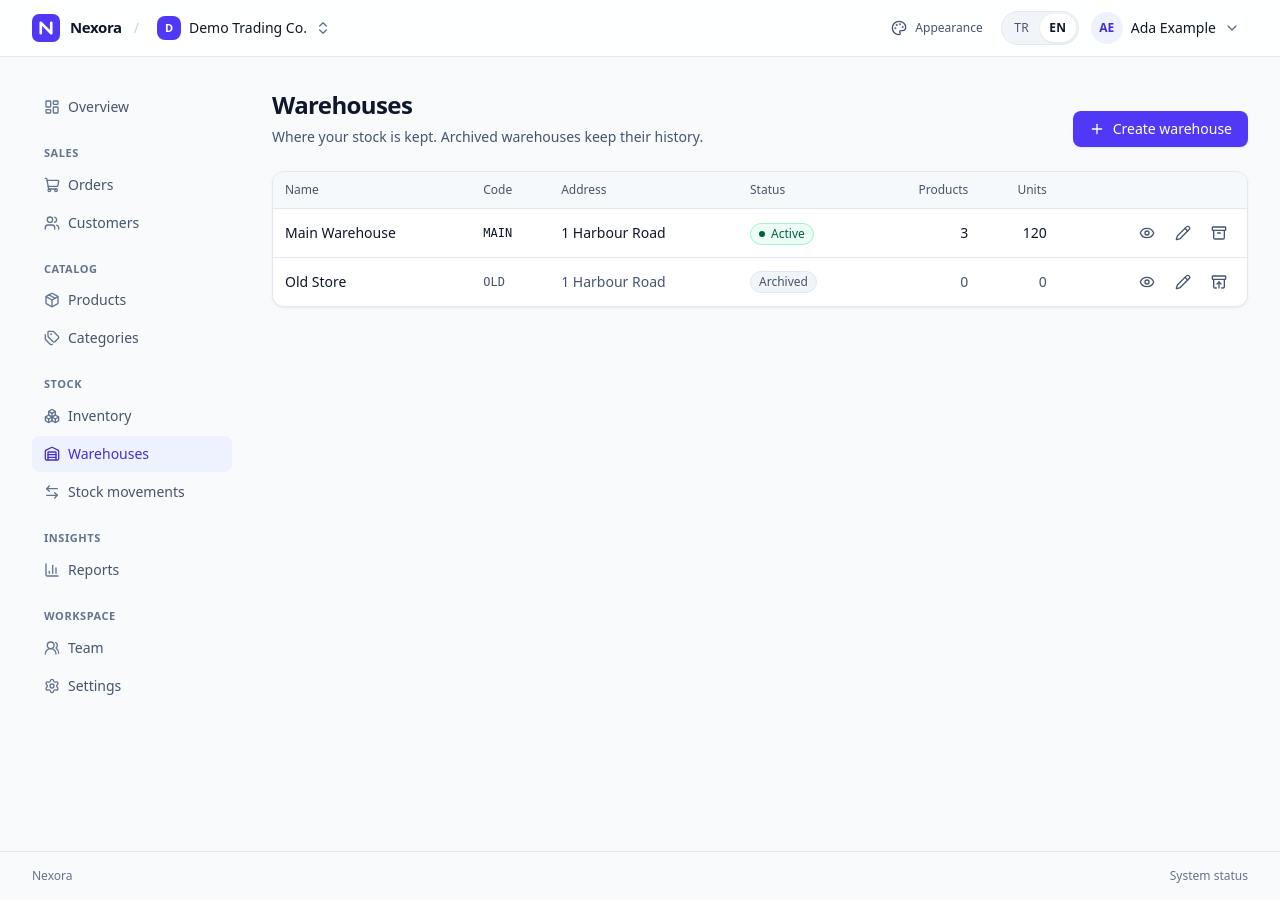
Test: WarehousesPage › archives after confirmation and restores directly
Expected: the heading "Warehouses" is shown, [272,88,412,121]
Click the button named "Archive Main Warehouse" at [1219, 233], box [1203,217,1235,249]
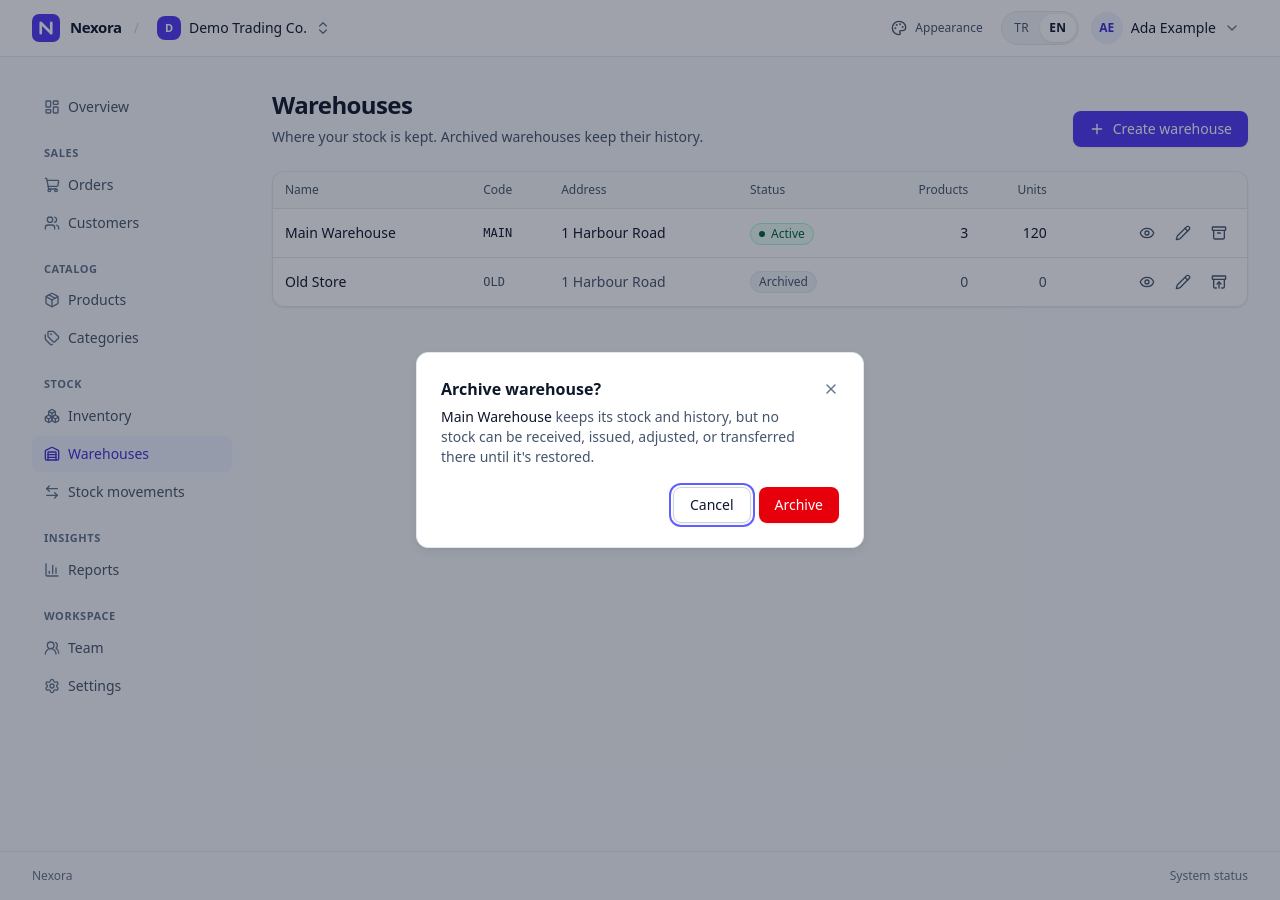
Result: the dialog "Archive warehouse?" shows "keeps its stock and history" at [441,407,795,466]
Click the button "Archive" at [799, 505], box [758,487,839,523]
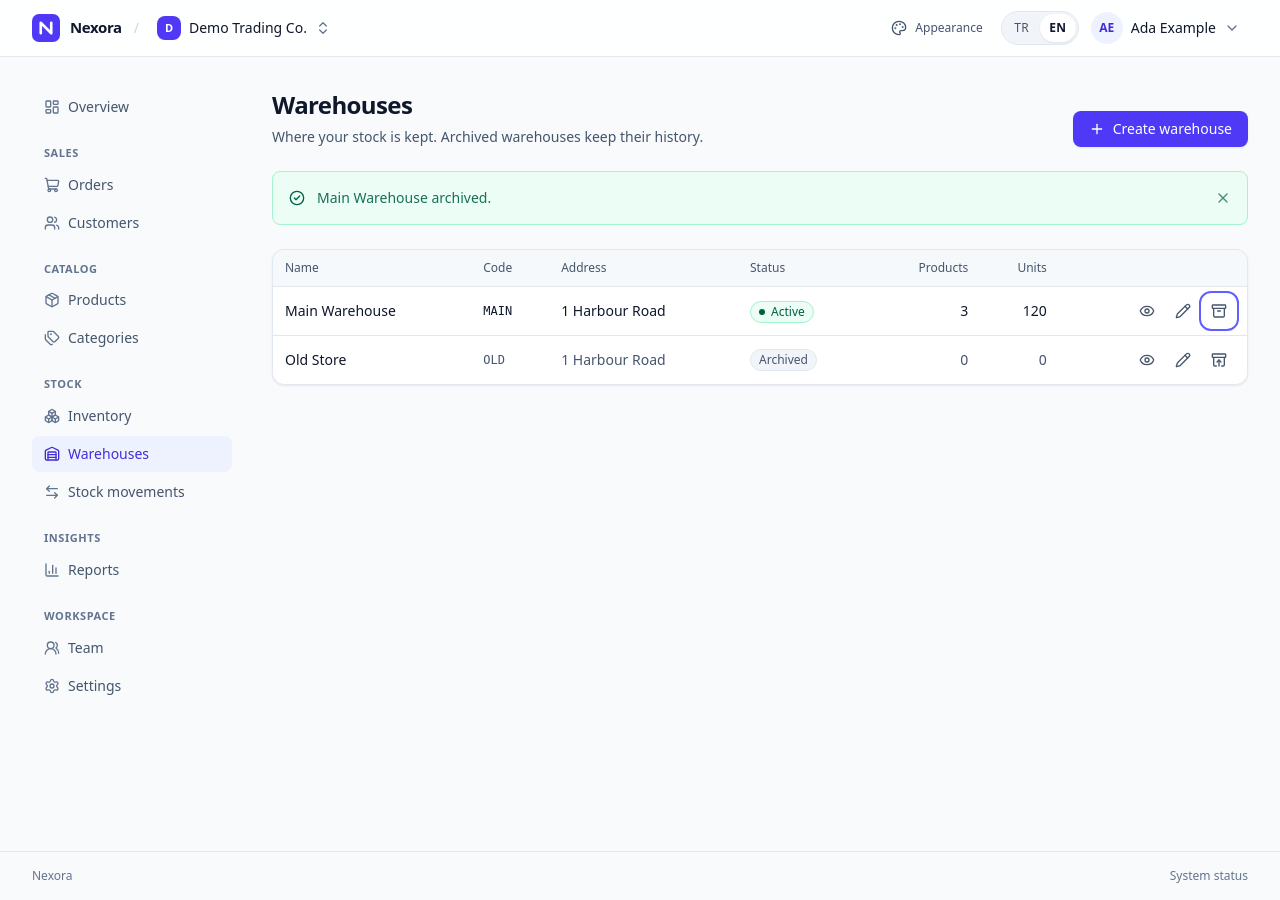
Result: the text "Main Warehouse archived." is shown at [317,188,491,207]
Click the button named "Restore Old Store" at [1219, 360], box [1203,344,1235,376]
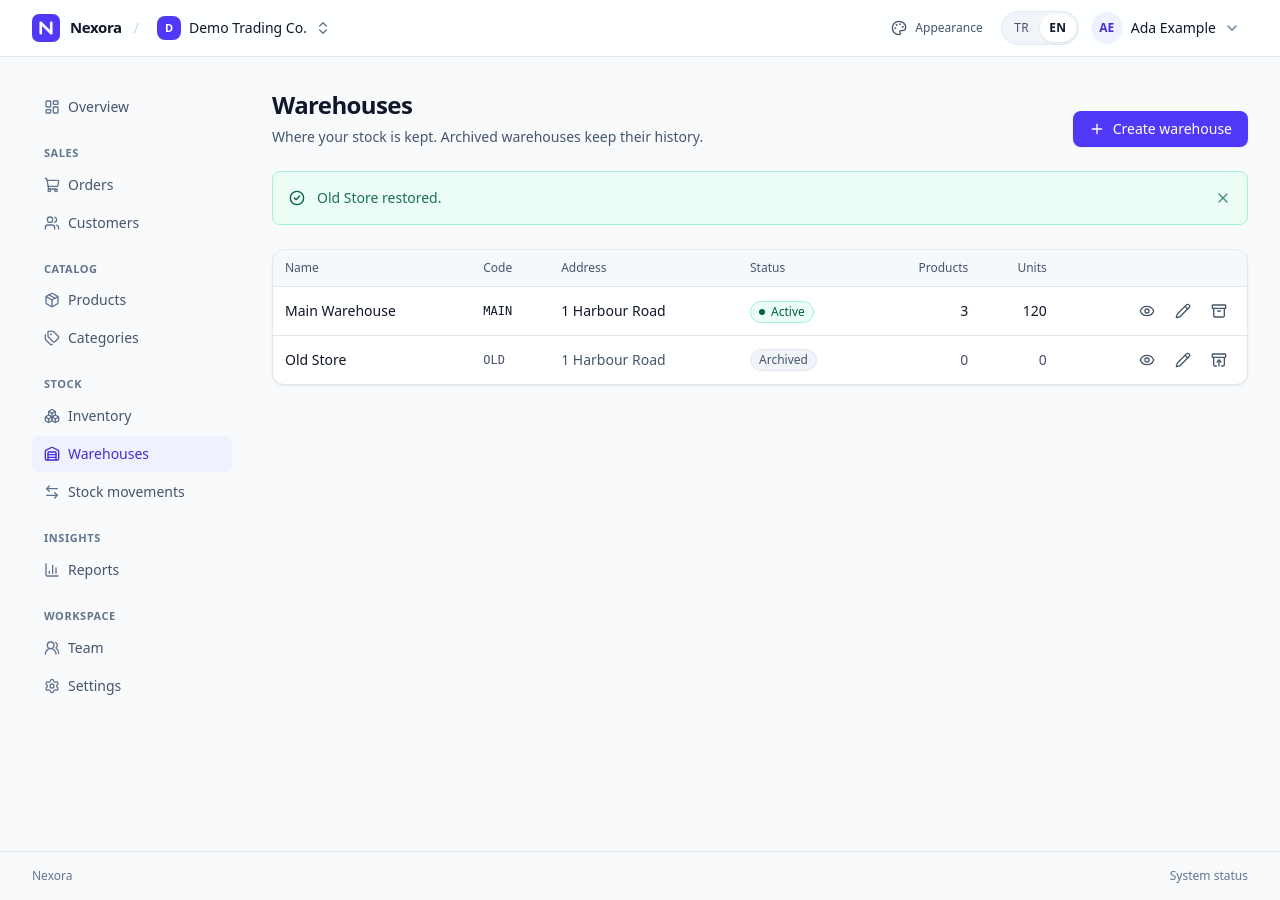
Result: the text "Old Store restored." is shown at [317,188,441,207]
